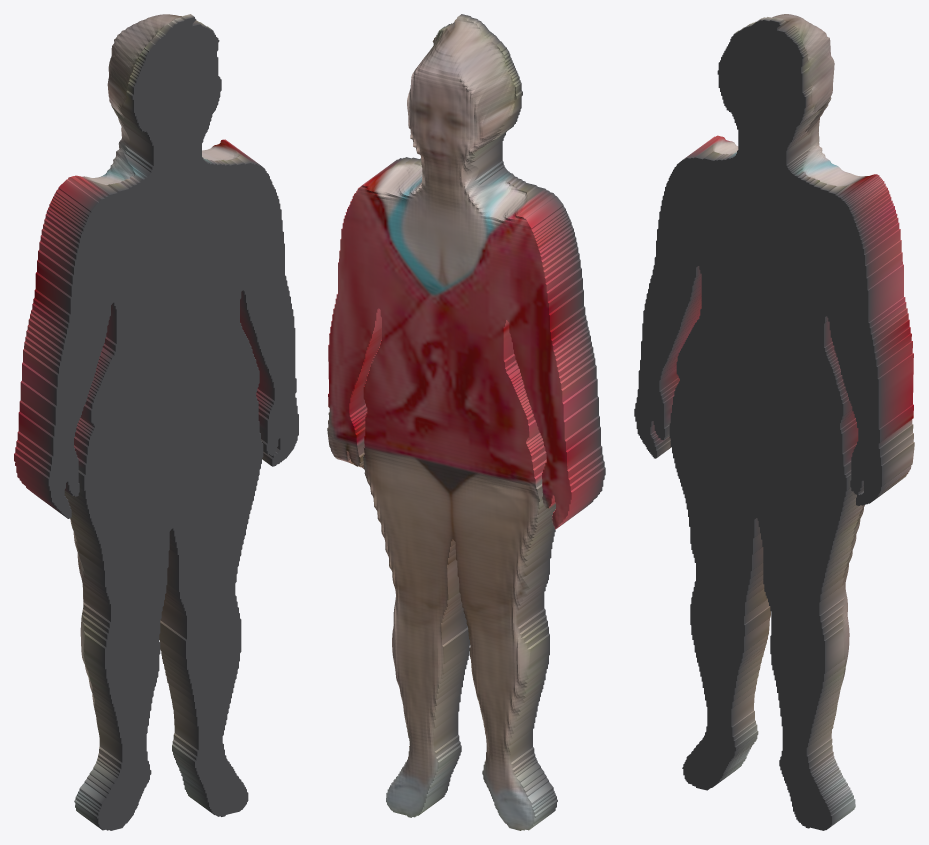
Rendered from avatar_110844.glb.
3 views of the same model, side by side, from view 1: azimuth 30°, elevation 25°; view 2: azimuth 150°, elevation 25°; view 3: azimuth 330°, elevation 25° (orthographic).
Visible parts, largest first — view 1: world; view 2: world; view 3: world.
Part boxes in pixels (box(x1,y1,x2,y2)): world: box(14, 14, 298, 830); world: box(327, 14, 605, 830); world: box(634, 14, 914, 830).
Bounding box in the file's own units: 39.06 × 120 × 10.61.
